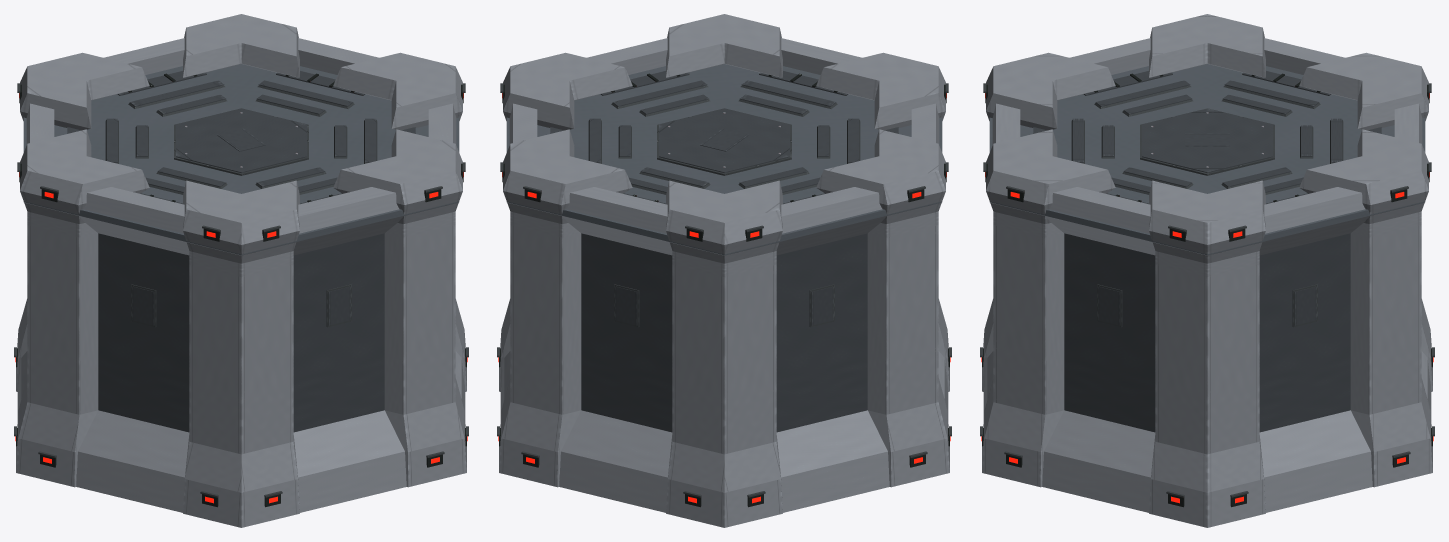
Rendered from terminal.glb.
The picture shows the model from 3 angles, left to right: view 1: azimuth 30°, elevation 25°; view 2: azimuth 150°, elevation 25°; view 3: azimuth 270°, elevation 25°; orthographic projection.
Parts seen in each view (by area): view 1: terminal-lod0-roof0, terminal-lod0-base0, terminal-lod0-floor0; view 2: terminal-lod0-roof0, terminal-lod0-base0, terminal-lod0-floor0; view 3: terminal-lod0-roof0, terminal-lod0-base0, terminal-lod0-floor0.
Part boxes in pixels (x1,y1,x2,y2): terminal-lod0-roof0: (17, 14, 465, 277); terminal-lod0-base0: (14, 299, 468, 527); terminal-lod0-floor0: (27, 225, 455, 399); terminal-lod0-roof0: (500, 14, 948, 277); terminal-lod0-base0: (497, 299, 951, 527); terminal-lod0-floor0: (510, 225, 938, 399); terminal-lod0-roof0: (983, 14, 1431, 277); terminal-lod0-base0: (980, 299, 1434, 527); terminal-lod0-floor0: (993, 225, 1421, 399).
Size of what is drawn, in the model's own units: 69.28 by 44 by 60.56.
6 materials, 6 textured.
